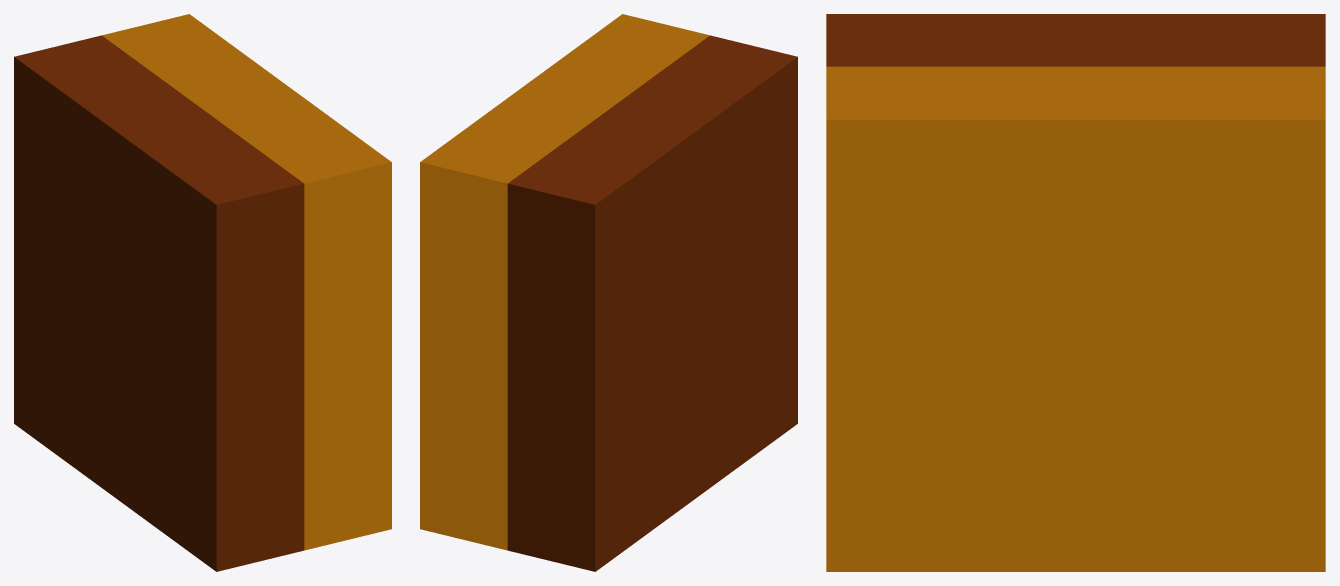
File: speedButton.glb
3 renders of one model, left to right at view 1: azimuth 30°, elevation 25°; view 2: azimuth 150°, elevation 25°; view 3: azimuth 270°, elevation 25°, orthographic. The views are drawn at different scales.
Visible parts, largest first — view 1: velocity; view 2: velocity; view 3: velocity.
Part boxes in pixels (box(x1,y1,x2,y2)): velocity: box(14, 14, 391, 571); velocity: box(420, 14, 797, 571); velocity: box(826, 14, 1325, 571).
Size of what is drawn, in the model's own units: 0.0236 by 0.0473 by 0.0473.
2 materials, 2 textured.
